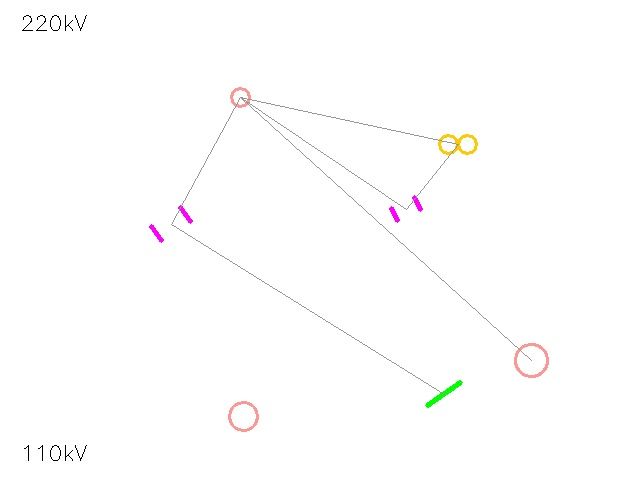busbar: (419, 369, 469, 419)
capacitor: (142, 195, 200, 253), (385, 188, 427, 230)
feeder_terminal: (215, 388, 271, 444)
fuse: (222, 79, 258, 115)
surge_arrester: (499, 328, 563, 392)
transformer_2w: (435, 121, 481, 167)
